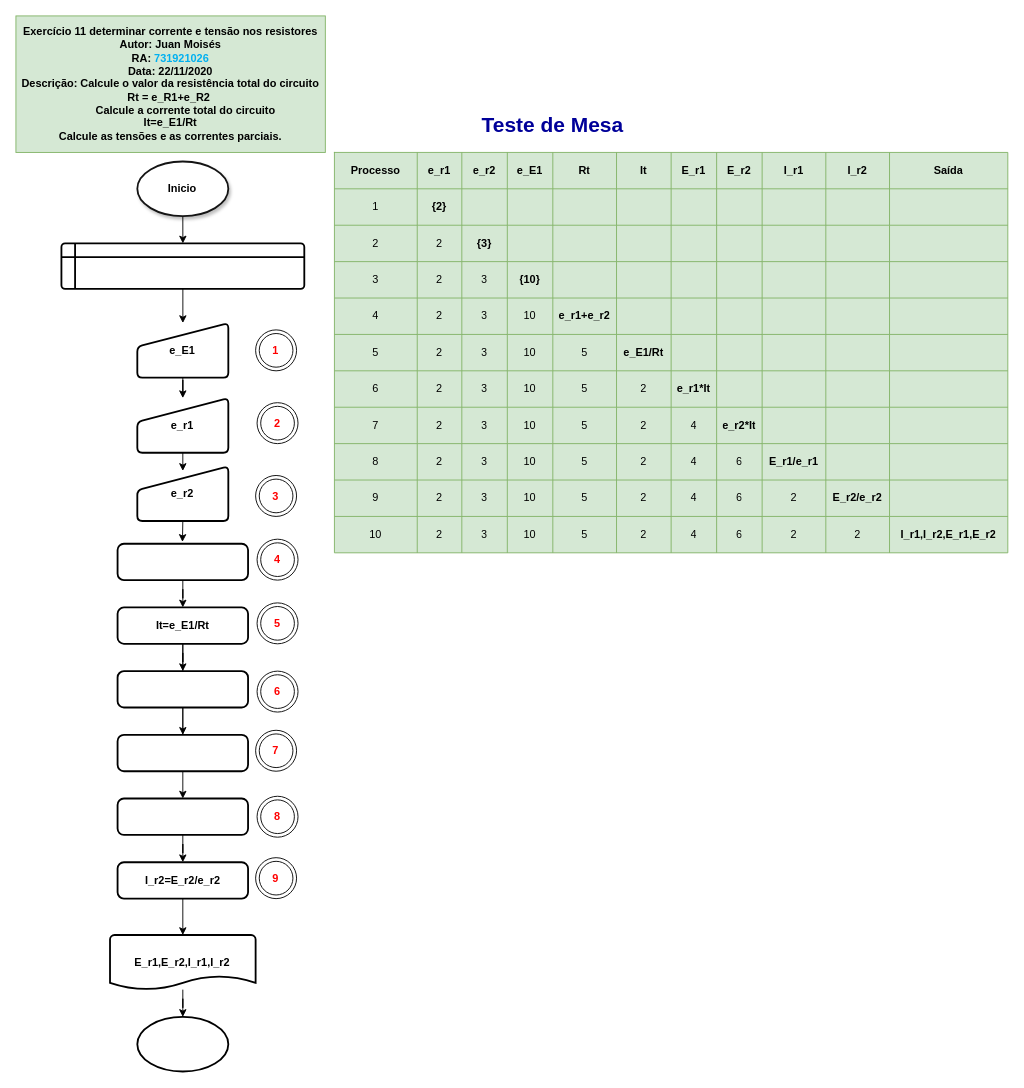
Image size: 1024x1088. Some labels were removed from this diagram. Each missing label, with the centre of its shape:
"e_r1,e_r2,e_E1,Rt,It,E_r1,E_r2,I_r1,I_r2" belongs at pixel 182 265.
"E_r1=e_r1*It" belongs at pixel 182 689.
"E_r2=e_r2*It" belongs at pixel 182 752.
"Fim" belongs at pixel 182 1044.
"I_r1=E_r1/e-r1" belongs at pixel 182 816.
"Rt=e_r1+e_r2" belongs at pixel 182 561.
